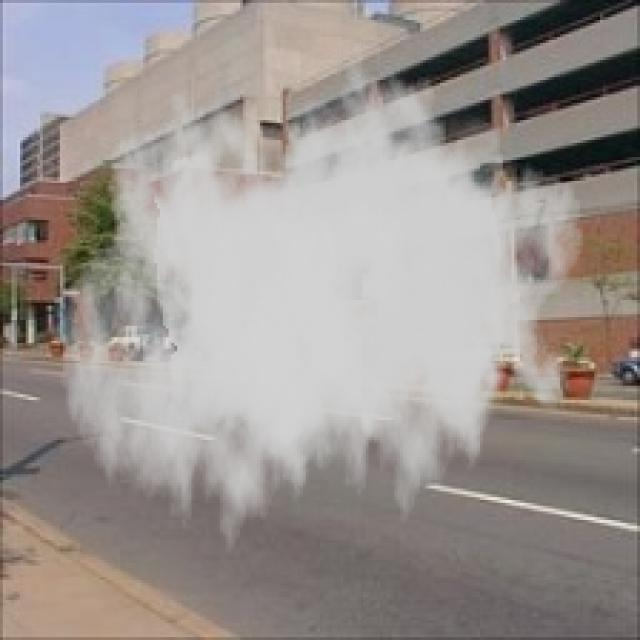Smoke: (60, 48, 586, 574)
